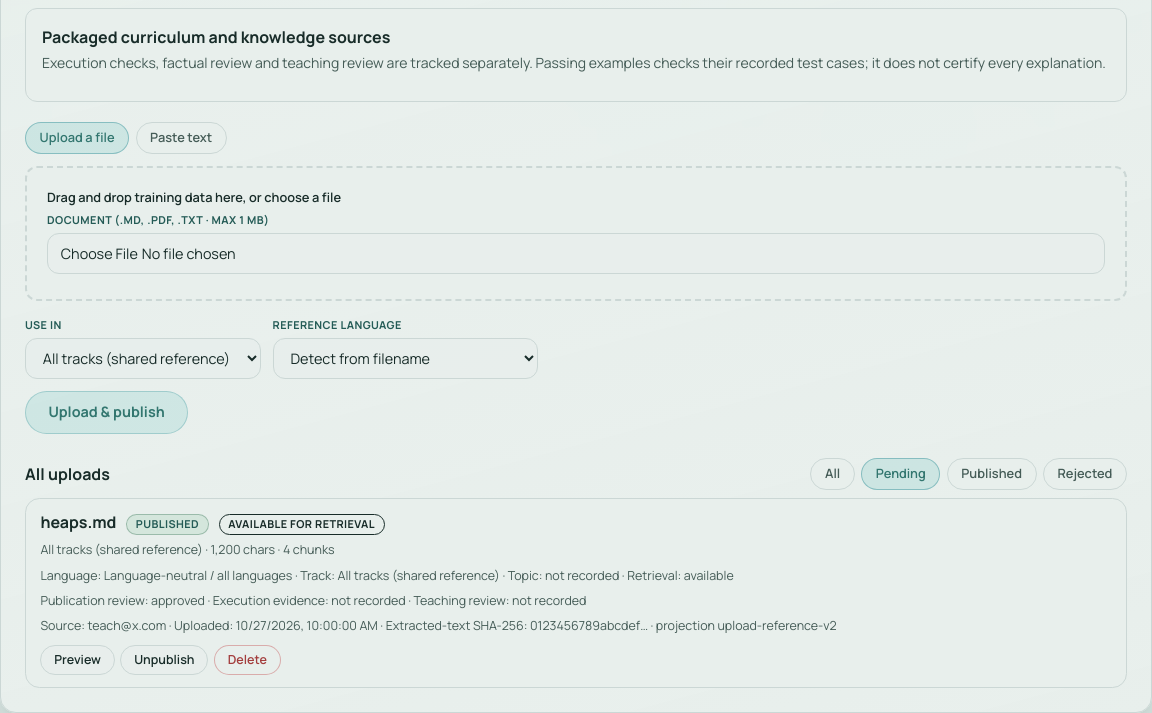
Scenario: KnowledgeUploadPanel — admin › offers Unpublish for published docs and surfaces action errors
(page scrolled)
Expected: the text "All tracks (shared reference) · 1,200 chars · 4 chunks" is shown, [40,541,334,558]
Expected: the text "Available for retrieval" is shown, [219,514,385,535]
Click the button "Unpublish" at coordinates (164, 660), box [120,645,208,675]
(page scrolled)
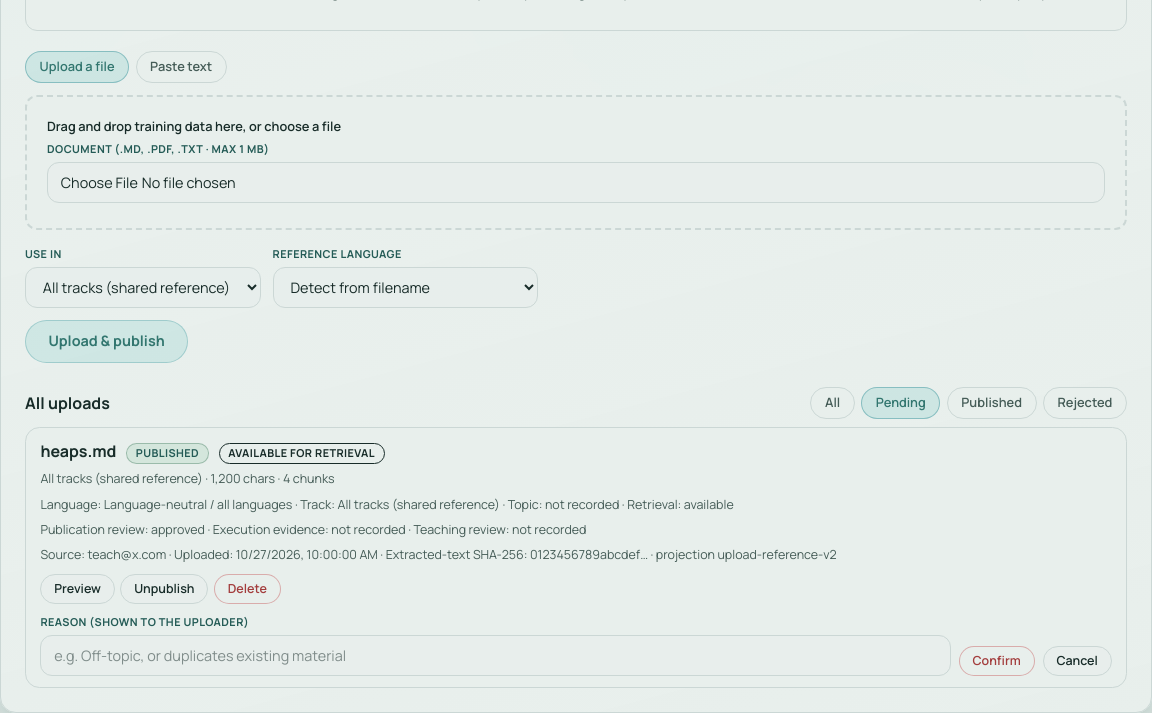
Click the button "Confirm" at coordinates (997, 661), box [959,646,1035,676]
(page scrolled)
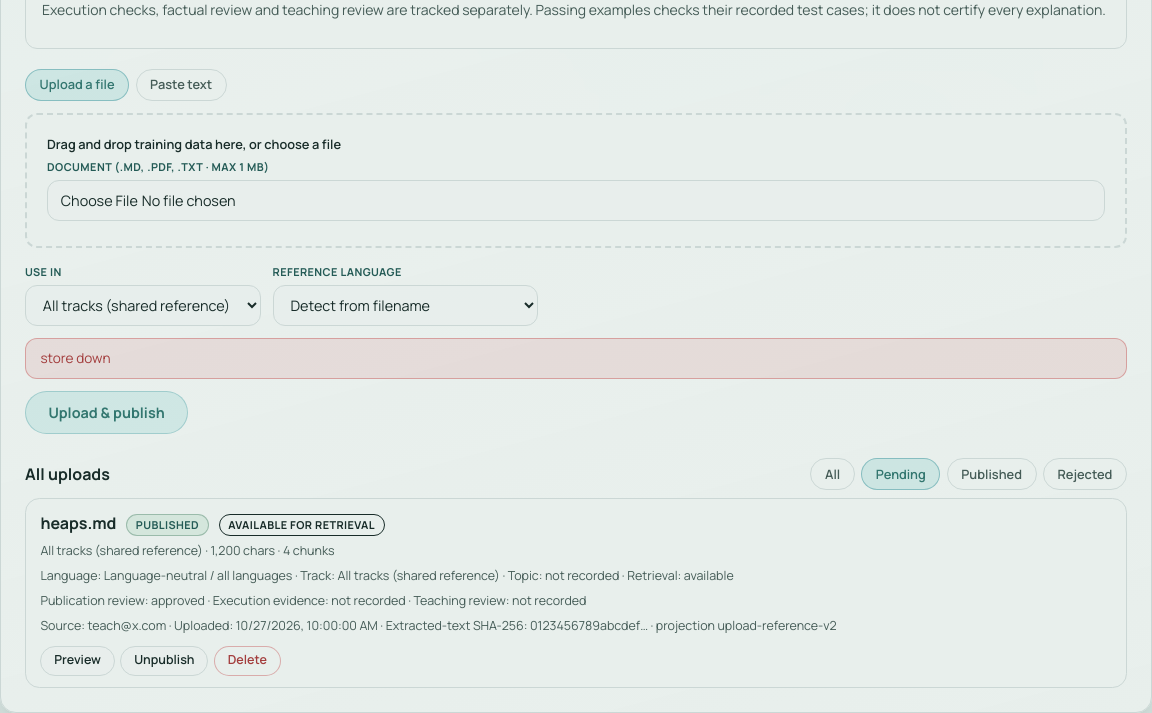
Now the message reads "store down", box [40,349,110,367]
